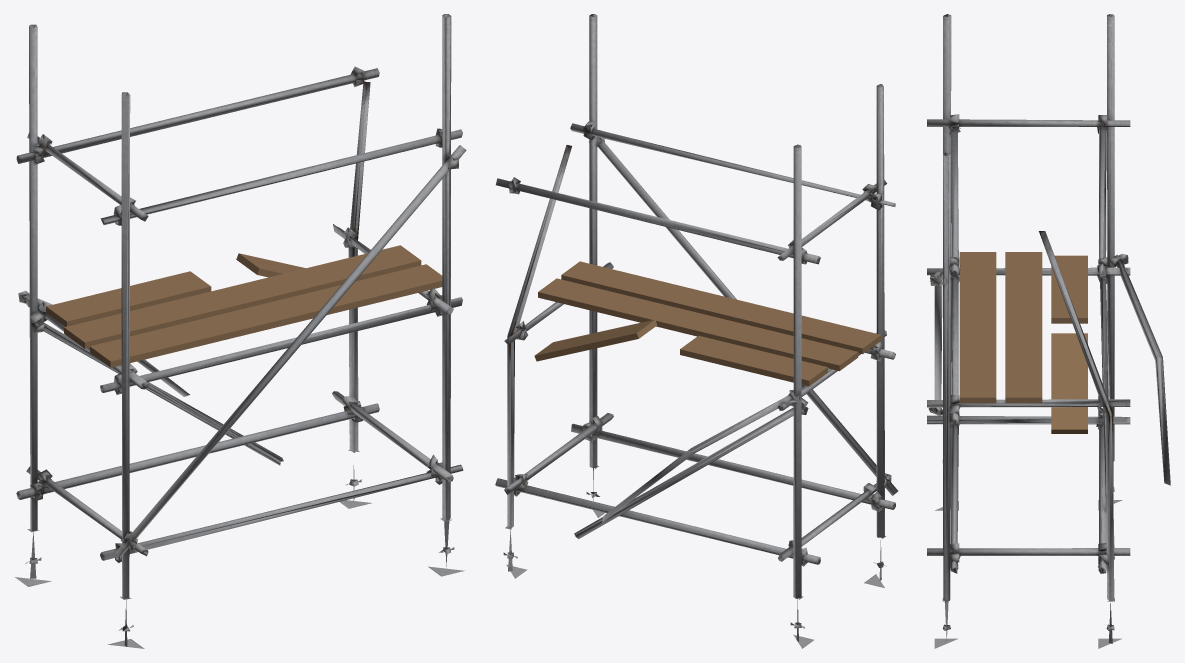
The model's file is industrial_scaffold_section_lod2.glb.
The picture shows the model from 3 angles, left to right: view 1: azimuth 30°, elevation 25°; view 2: azimuth 150°, elevation 25°; view 3: azimuth 270°, elevation 25°; orthographic projection. The views are drawn at different scales.
Parts seen in each view (by area): view 1: industrial_scaffold_section_paint, industrial_scaffold_section_wood; view 2: industrial_scaffold_section_paint, industrial_scaffold_section_wood; view 3: industrial_scaffold_section_paint, industrial_scaffold_section_wood.
Part boxes in pixels (x1,y1,x2,y2): industrial_scaffold_section_paint: (15,14,466,648); industrial_scaffold_section_wood: (46,245,442,367); industrial_scaffold_section_paint: (495,14,898,648); industrial_scaffold_section_wood: (534,261,881,386); industrial_scaffold_section_paint: (927,14,1170,648); industrial_scaffold_section_wood: (959,252,1087,433).
Bounding box in the file's own units: 2.24 × 3.3 × 1.49.
Materials: 2 (1 with a texture image).
